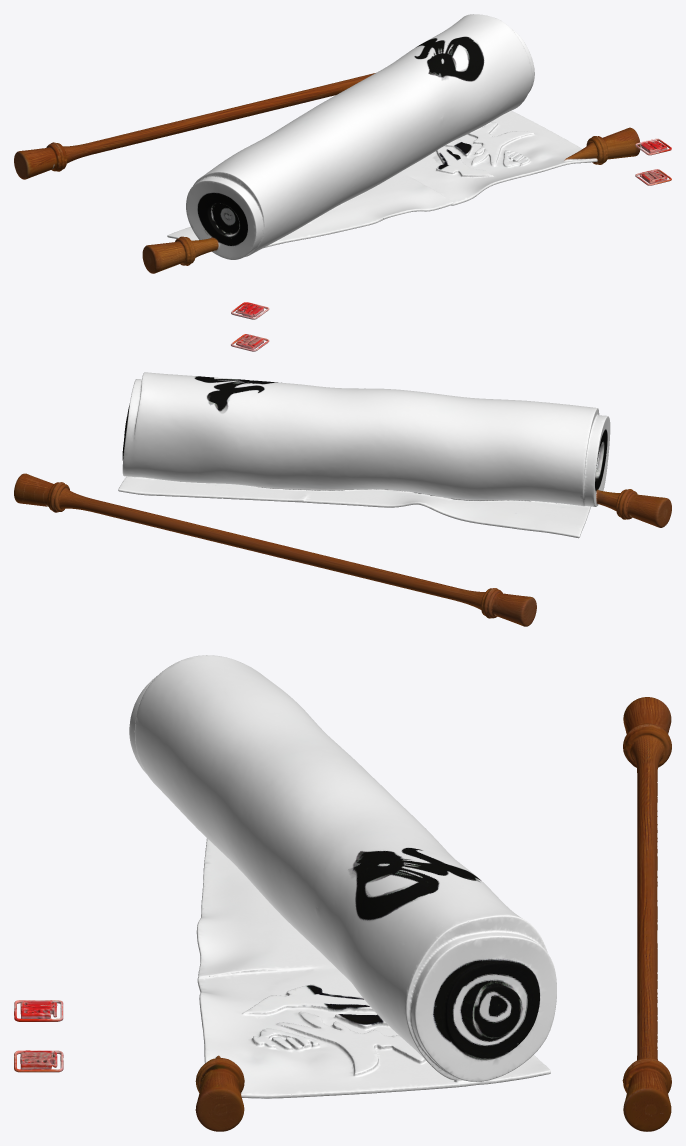
File: scroll.glb
The picture shows the model from 3 angles, top to bottom: view 1: azimuth 30°, elevation 25°; view 2: azimuth 150°, elevation 25°; view 3: azimuth 270°, elevation 25°; orthographic projection. The views are drawn at different scales.
Bounding box in the file's own units: 1.9 × 0.368 × 1.34.
Materials: 1 (1 with a texture image).
